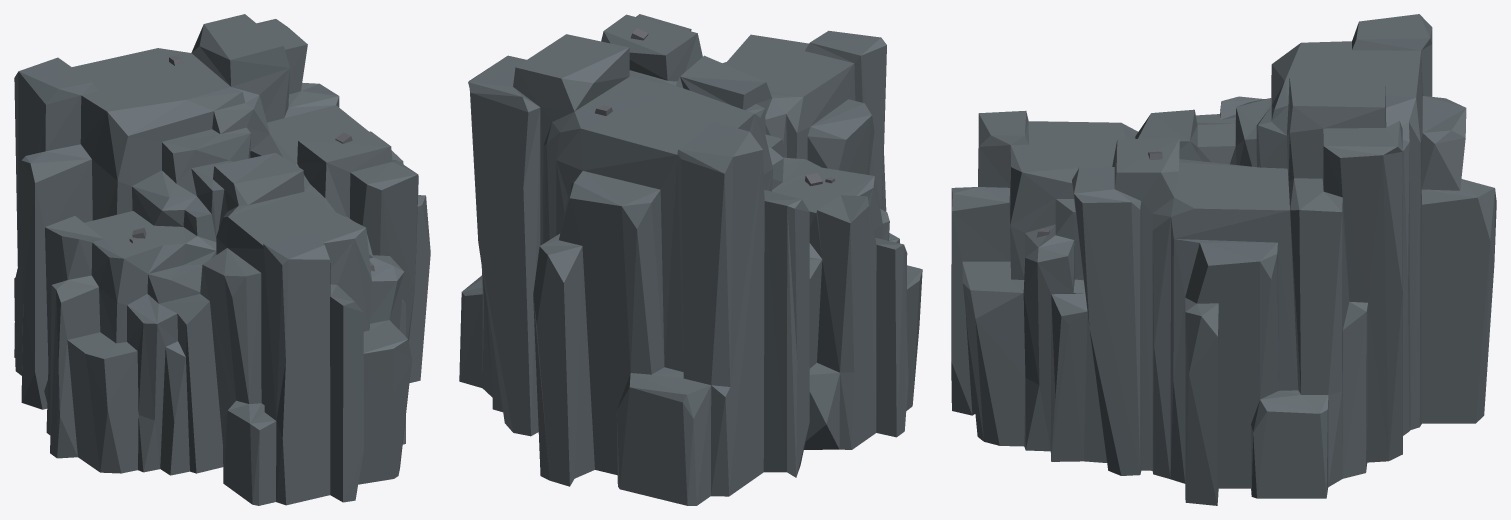
The model's file is Rock_Big_3.fbx.
The picture shows the model from 3 angles, left to right: view 1: azimuth 30°, elevation 25°; view 2: azimuth 150°, elevation 25°; view 3: azimuth 270°, elevation 25°; orthographic projection. The views are drawn at different scales.
Parts seen in each view (by area): view 1: polySurface10331; view 2: polySurface10331; view 3: polySurface10331.
Boxes of the visible parts, left/top/right/bottom form: polySurface10331: left=14, top=14, right=430, bottom=505; polySurface10331: left=459, top=14, right=922, bottom=505; polySurface10331: left=951, top=14, right=1496, bottom=505.
Bounding box in the file's own units: 1281 × 1069 × 1507.
